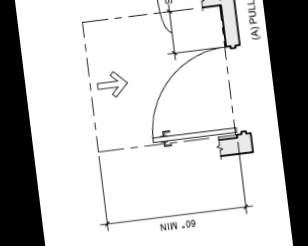door: (140, 45, 241, 146)
